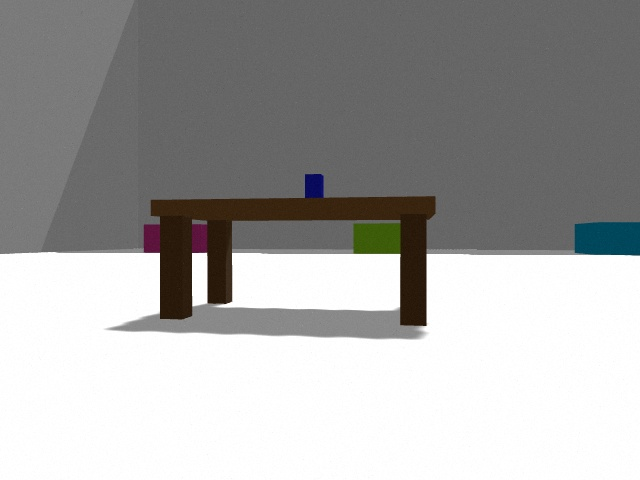blue_cube: (305, 174, 324, 198)
blue_drop_zone: (575, 222, 640, 255)
green_drop_zone: (353, 223, 400, 254)
red_drop_zone: (144, 224, 160, 253), (192, 224, 207, 253)
